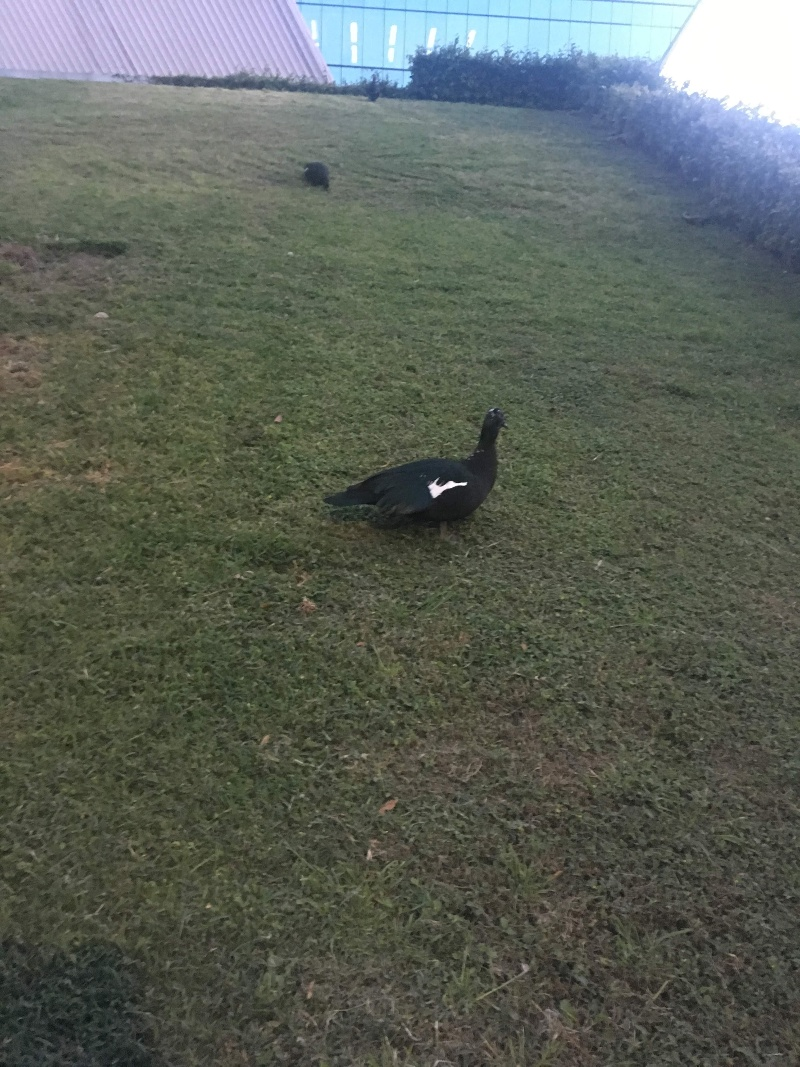pato: (335, 406, 509, 523)
